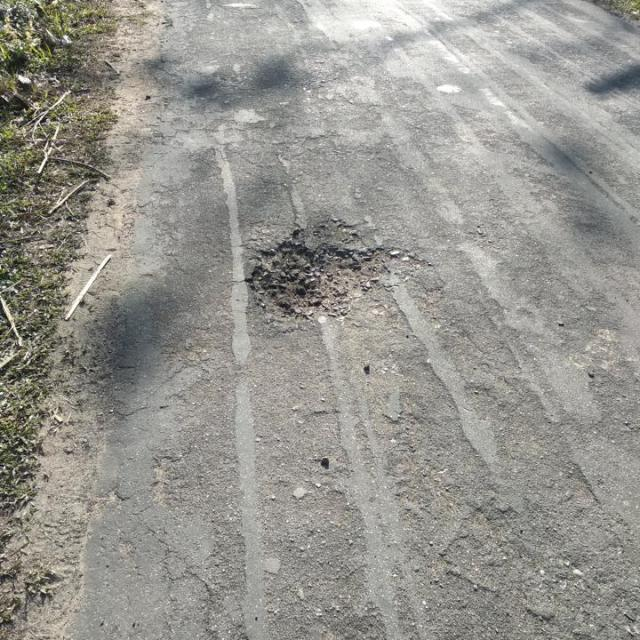pothole: (246, 220, 414, 324)
